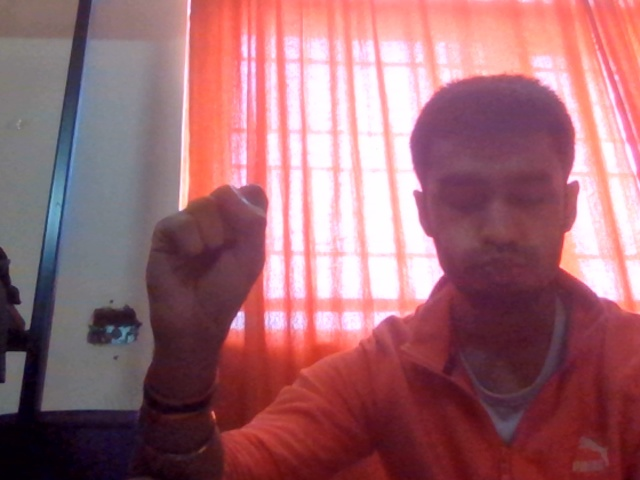S: (117, 161, 308, 398)
